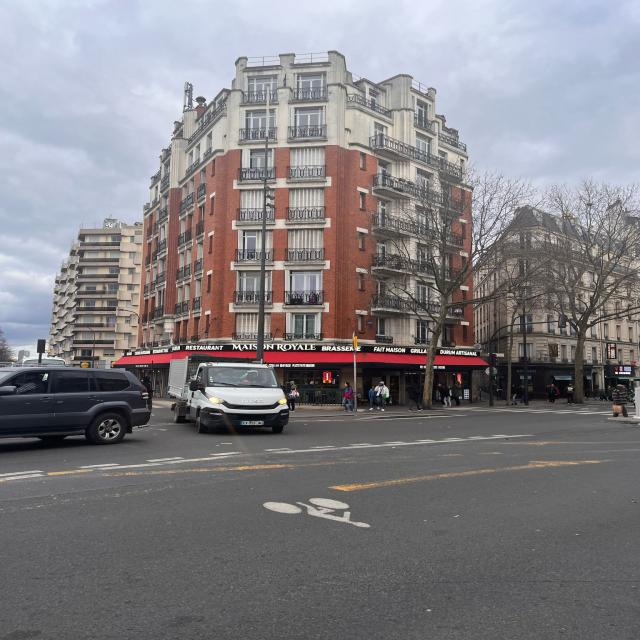Autre: (240, 415, 272, 424)
